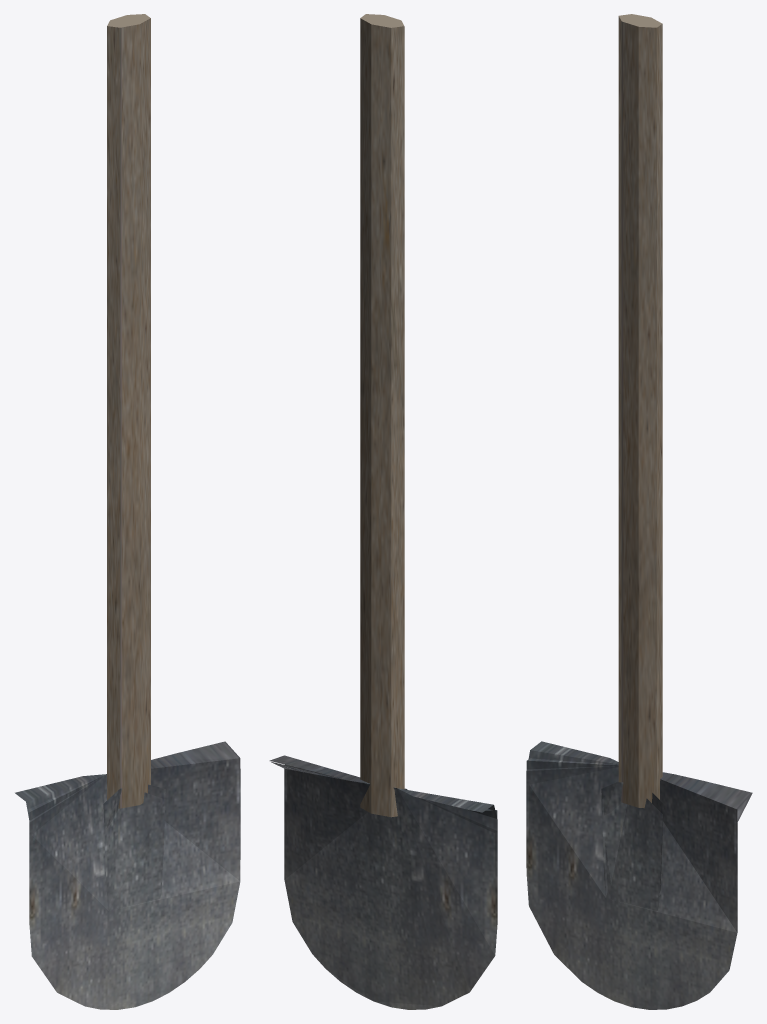
Rendered from shovel102_wtf.obj.
3 renders of one model, left to right at view 1: azimuth 30°, elevation 25°; view 2: azimuth 150°, elevation 25°; view 3: azimuth 330°, elevation 25°, orthographic.
Visible parts, largest first — view 1: group4, group5; view 2: group4, group5; view 3: group4, group5.
Part boxes in pixels (x1,y1,x2,y2): group4: [15, 741, 240, 1009]; group5: [107, 14, 150, 808]; group4: [269, 755, 497, 1009]; group5: [360, 14, 404, 817]; group4: [526, 741, 752, 1009]; group5: [618, 14, 662, 808].
Bounding box in the file's own units: 149 × 660 × 18.55.
